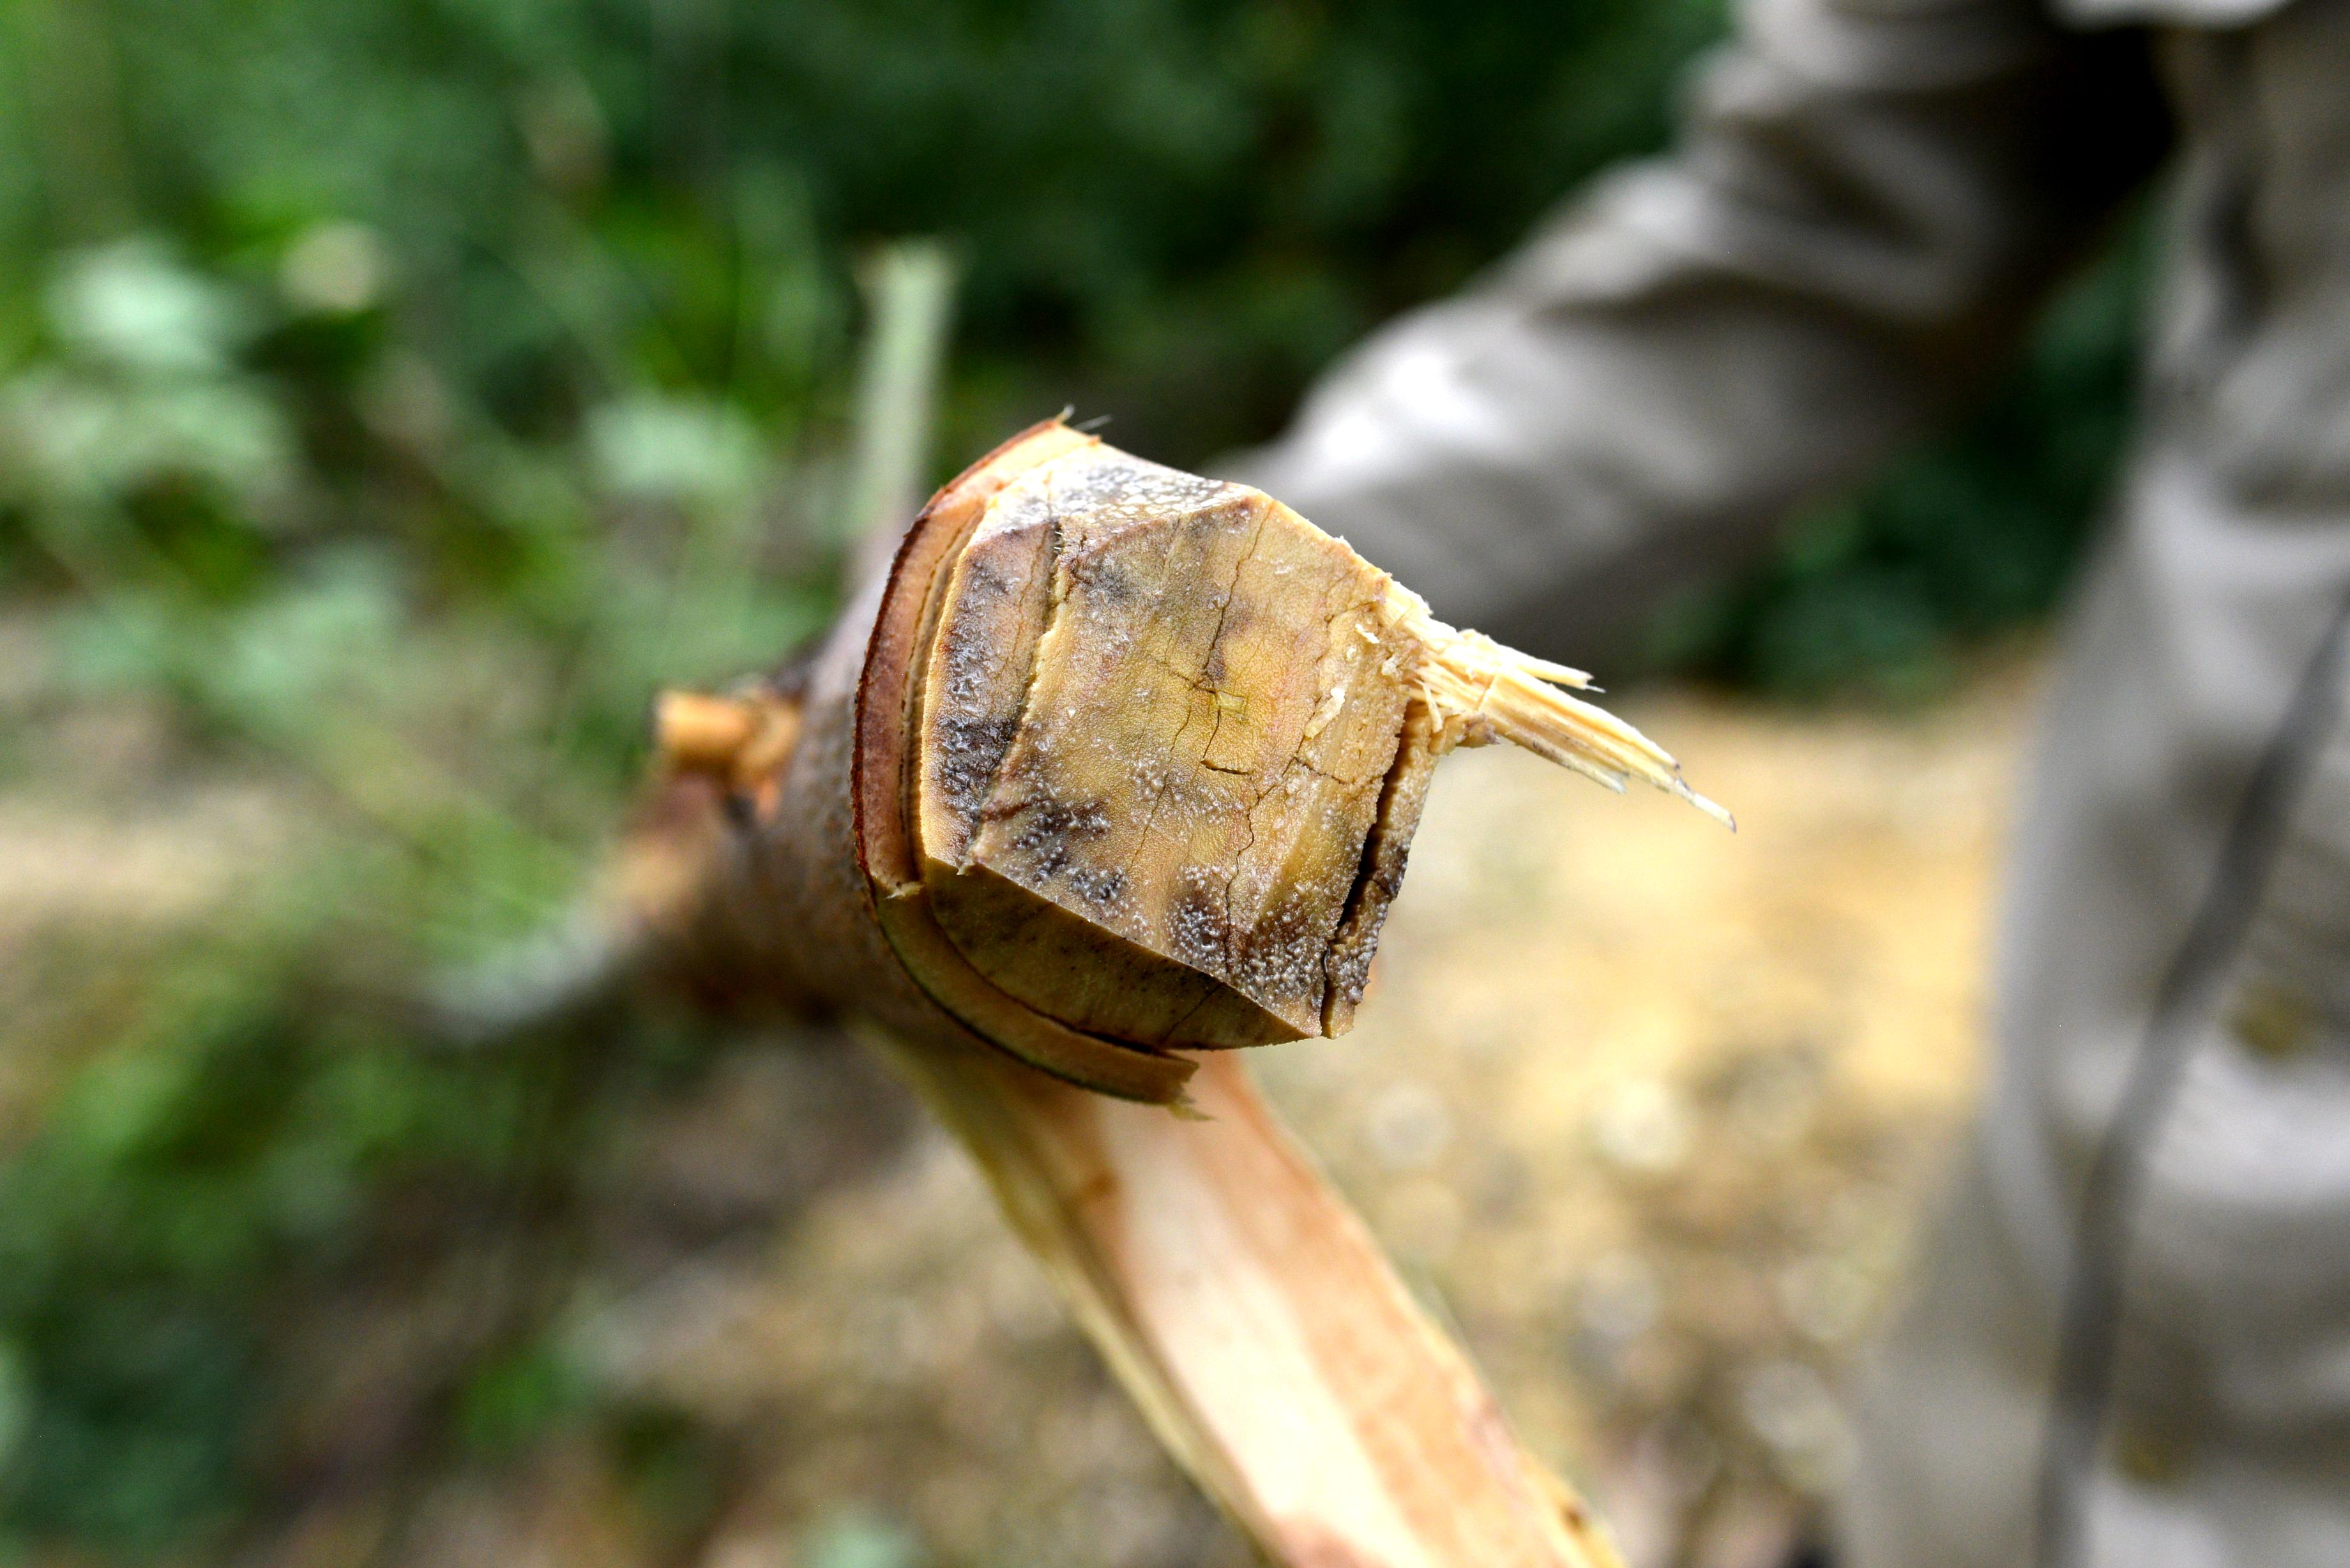Ralstonia: (898, 639, 1157, 940), (968, 434, 1323, 625), (1183, 763, 1379, 1010)
